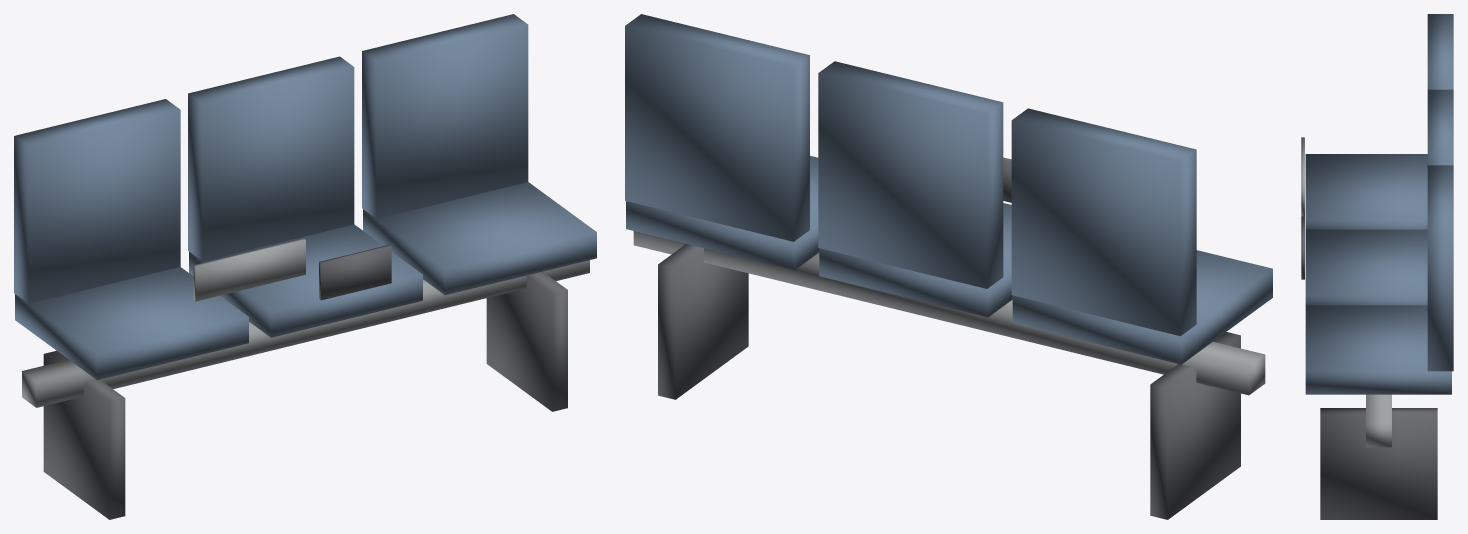
The model's file is waiting_chair_beam_row__weathered.glb.
3 views of the same model, side by side, from view 1: azimuth 30°, elevation 25°; view 2: azimuth 150°, elevation 25°; view 3: azimuth 270°, elevation 25° (orthographic). The views are drawn at different scales.
Parts seen in each view (by area): view 1: world; view 2: world; view 3: world.
Boxes of the visible parts, box(x1,y1,x2,y2) form: world: box(14, 14, 596, 519); world: box(625, 14, 1272, 519); world: box(1301, 14, 1453, 519).
Size of the model in its own units: 1.75 by 1.01 by 0.469.
